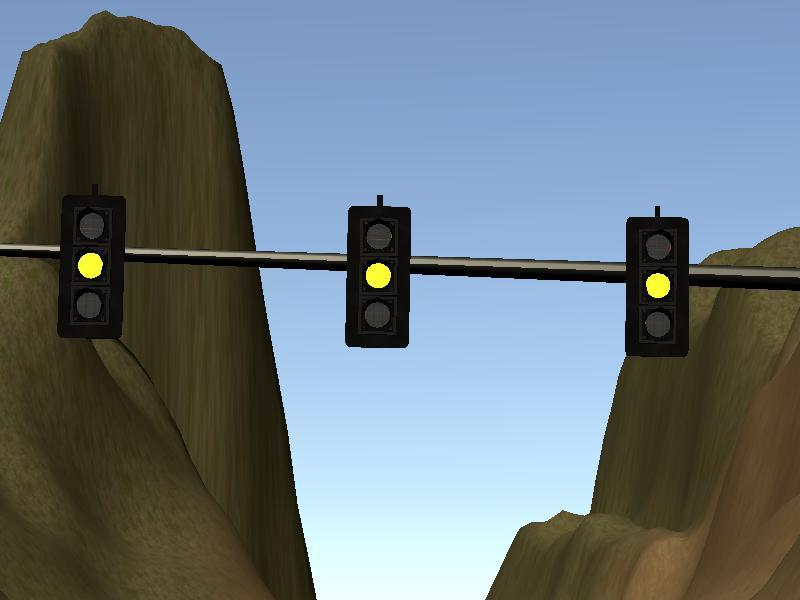Yellow: (60, 195, 122, 335), (349, 207, 409, 345), (627, 219, 687, 355)
